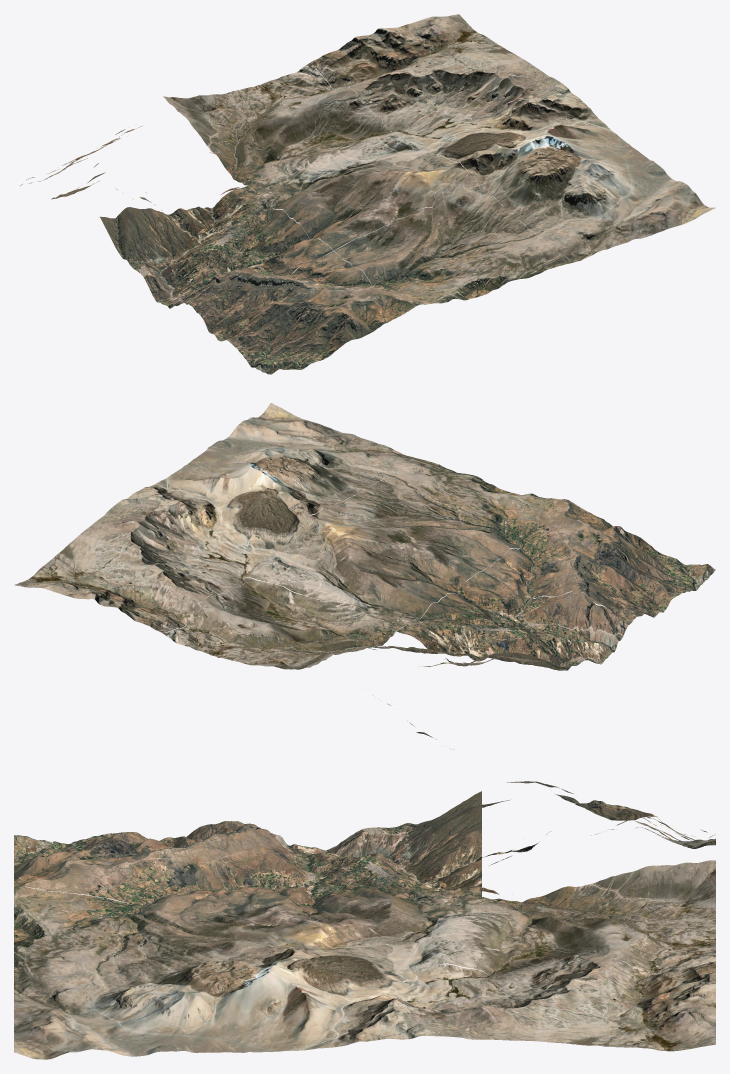
File: ticsani.glb
3 views of the same model, one above another, from view 1: azimuth 30°, elevation 25°; view 2: azimuth 150°, elevation 25°; view 3: azimuth 270°, elevation 25° (orthographic). The views are drawn at different scales.
Parts seen in each view (by area): view 1: dem-rgb-13/2489/4483, dem-rgb-13/2487/4483, dem-rgb-13/2488/4483, dem-rgb-13/2487/4482, dem-rgb-13/2489/4481, dem-rgb-13/2488/4482, dem-rgb-13/2488/4481, dem-rgb-13/2489/4482; view 2: dem-rgb-13/2488/4482, dem-rgb-13/2489/4482, dem-rgb-13/2487/4483, dem-rgb-13/2487/4482, dem-rgb-13/2489/4481, dem-rgb-13/2488/4483, dem-rgb-13/2488/4481, dem-rgb-13/2489/4483, dem-rgb-13/2487/4481; view 3: dem-rgb-13/2488/4481, dem-rgb-13/2489/4483, dem-rgb-13/2489/4482, dem-rgb-13/2489/4481, dem-rgb-13/2488/4483, dem-rgb-13/2487/4482, dem-rgb-13/2487/4483, dem-rgb-13/2488/4482, dem-rgb-13/2487/4481.
Part boxes in pixels (x1=…): dem-rgb-13/2489/4483: x1=482, y1=143, x2=715, y2=263; dem-rgb-13/2487/4483: x1=185, y1=251, x2=418, y2=374; dem-rgb-13/2488/4483: x1=334, y1=184, x2=567, y2=304; dem-rgb-13/2487/4482: x1=100, y1=186, x2=332, y2=308; dem-rgb-13/2489/4481: x1=311, y1=14, x2=544, y2=132; dem-rgb-13/2488/4482: x1=248, y1=131, x2=481, y2=250; dem-rgb-13/2488/4481: x1=163, y1=62, x2=391, y2=185; dem-rgb-13/2489/4482: x1=400, y1=73, x2=629, y2=183; dem-rgb-13/2488/4482: x1=248, y1=504, x2=481, y2=631; dem-rgb-13/2489/4482: x1=100, y1=463, x2=333, y2=577; dem-rgb-13/2487/4483: x1=482, y1=500, x2=715, y2=623; dem-rgb-13/2487/4482: x1=396, y1=571, x2=629, y2=670; dem-rgb-13/2489/4481: x1=14, y1=519, x2=246, y2=632; dem-rgb-13/2488/4483: x1=334, y1=459, x2=567, y2=570; dem-rgb-13/2488/4481: x1=162, y1=577, x2=395, y2=669; dem-rgb-13/2489/4483: x1=186, y1=403, x2=418, y2=504; dem-rgb-13/2487/4481: x1=339, y1=645, x2=542, y2=749; dem-rgb-13/2488/4481: x1=482, y1=860, x2=715, y2=975; dem-rgb-13/2489/4483: x1=14, y1=957, x2=247, y2=1059; dem-rgb-13/2489/4482: x1=248, y1=948, x2=481, y2=1052; dem-rgb-13/2489/4481: x1=482, y1=957, x2=715, y2=1051; dem-rgb-13/2488/4483: x1=14, y1=886, x2=247, y2=980; dem-rgb-13/2487/4482: x1=248, y1=791, x2=481, y2=907; dem-rgb-13/2487/4483: x1=14, y1=821, x2=247, y2=906; dem-rgb-13/2488/4482: x1=248, y1=894, x2=481, y2=970; dem-rgb-13/2487/4481: x1=482, y1=781, x2=715, y2=894.
Size of the model in its own units: 1.65 by 0.3246 by 1.65.
9 materials, 9 textured.
